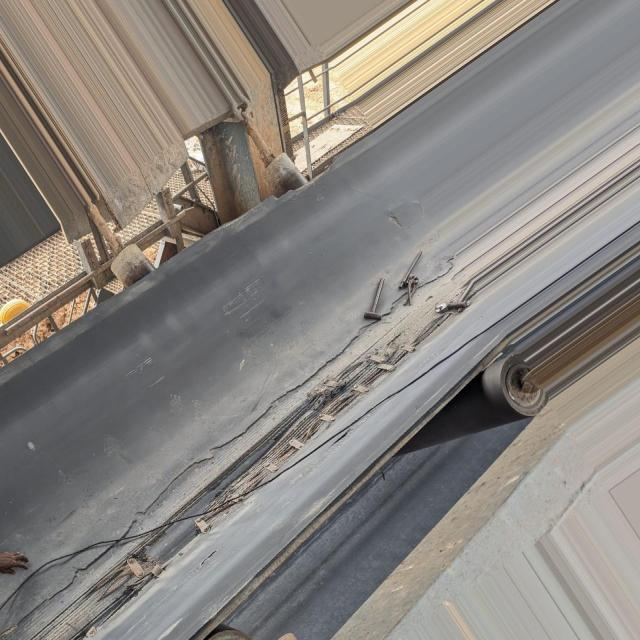Other Objects: (359, 247, 432, 322)
Roller: (396, 350, 549, 460), (258, 152, 306, 193), (114, 245, 159, 288)
Tear: (0, 270, 456, 638)
